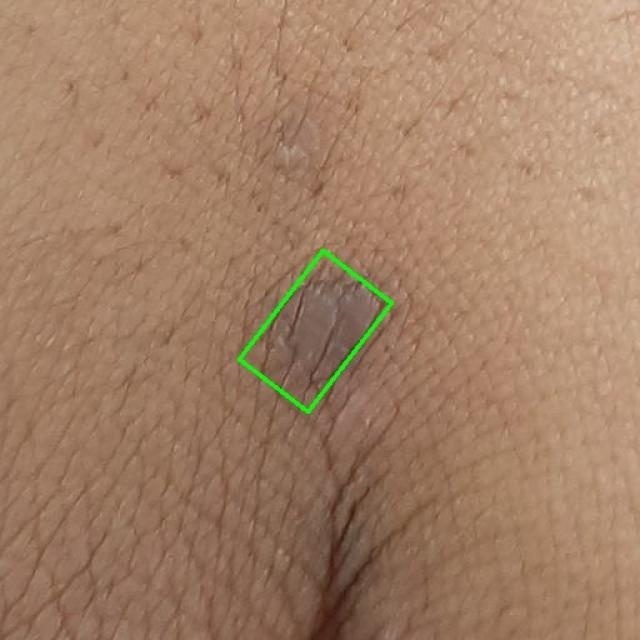Scabies: (239, 250, 392, 412)
